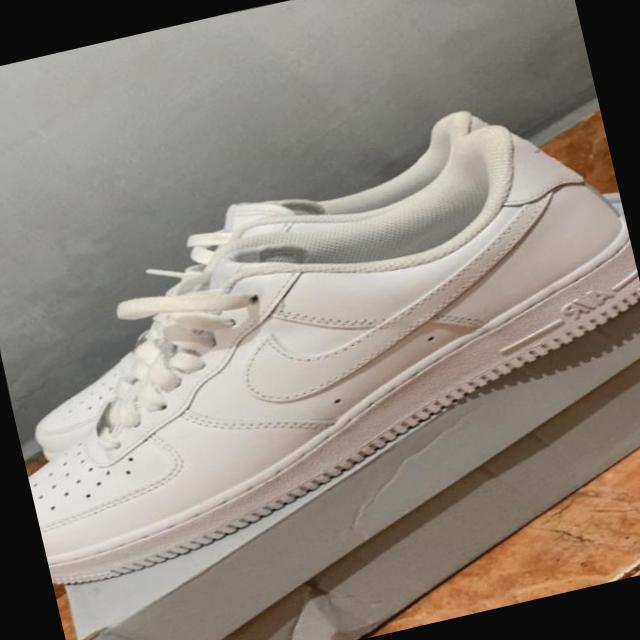nike_original_airforce: (0, 88, 640, 601)
